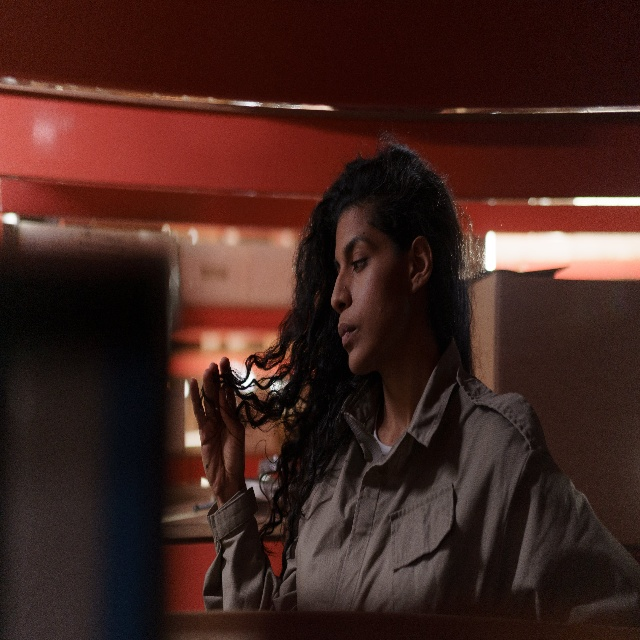Sin_guantes: (189, 352, 248, 503)
